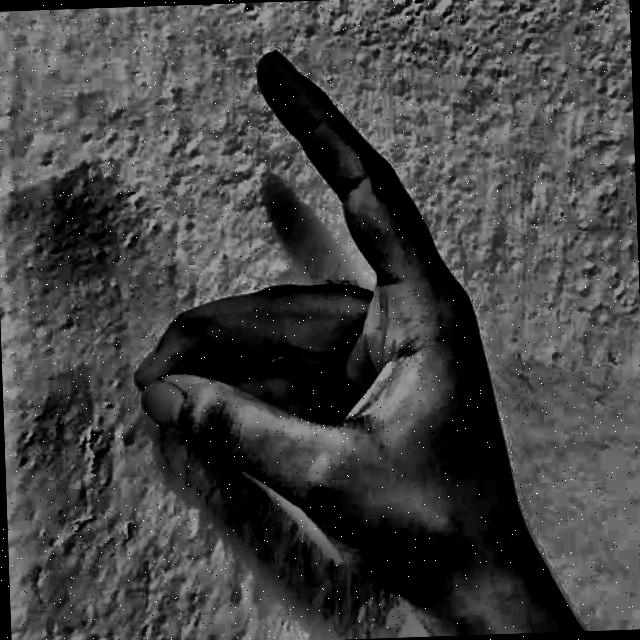Dha: (101, 21, 574, 640)
